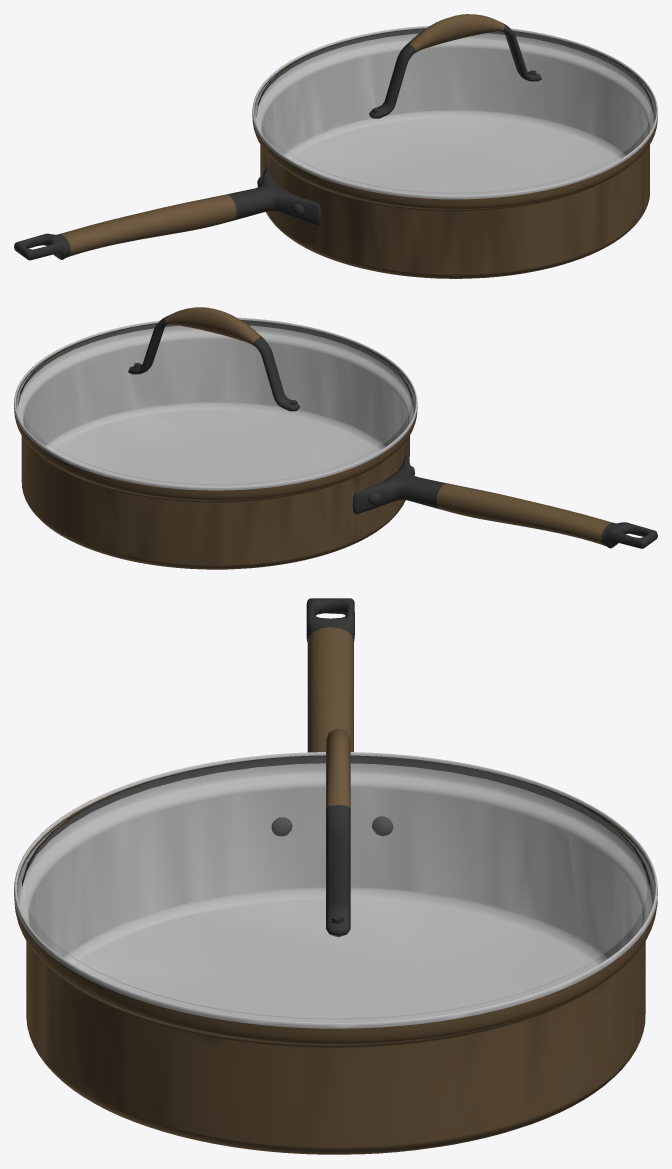
Rendered from acce2.glb.
3 renders of one model, top to bottom at view 1: azimuth 30°, elevation 25°; view 2: azimuth 150°, elevation 25°; view 3: azimuth 270°, elevation 25°, orthographic. The views are drawn at different scales.
Visible parts, largest first — view 1: cgaxis_models_92_10_02_1, cgaxis_models_92_10_03_1, cgaxis_models_92_10_04_1, cgaxis_models_92_10_05_2, cgaxis_models_92_10_05_3; view 2: cgaxis_models_92_10_02_1, cgaxis_models_92_10_03_1, cgaxis_models_92_10_04_1, cgaxis_models_92_10_05_2, cgaxis_models_92_10_05_3; view 3: cgaxis_models_92_10_02_1, cgaxis_models_92_10_03_1, cgaxis_models_92_10_04_1, cgaxis_models_92_10_05_3, cgaxis_models_92_10_05_2.
Boxes of the visible parts, bbox=[...] form: cgaxis_models_92_10_02_1: bbox=[252, 25, 657, 199]; cgaxis_models_92_10_03_1: bbox=[259, 28, 650, 193]; cgaxis_models_92_10_04_1: bbox=[59, 14, 657, 278]; cgaxis_models_92_10_05_2: bbox=[14, 166, 321, 260]; cgaxis_models_92_10_05_3: bbox=[256, 23, 653, 118]; cgaxis_models_92_10_02_1: bbox=[14, 317, 417, 490]; cgaxis_models_92_10_03_1: bbox=[21, 320, 410, 484]; cgaxis_models_92_10_04_1: bbox=[14, 307, 613, 569]; cgaxis_models_92_10_05_2: bbox=[352, 455, 657, 548]; cgaxis_models_92_10_05_3: bbox=[18, 316, 412, 411]; cgaxis_models_92_10_02_1: bbox=[14, 752, 657, 1028]; cgaxis_models_92_10_03_1: bbox=[25, 756, 646, 1019]; cgaxis_models_92_10_04_1: bbox=[14, 627, 657, 1154]; cgaxis_models_92_10_05_3: bbox=[22, 755, 650, 937]; cgaxis_models_92_10_05_2: bbox=[271, 598, 393, 836].
Bounding box in the file's own units: 0.7605 × 0.2172 × 0.4368.
